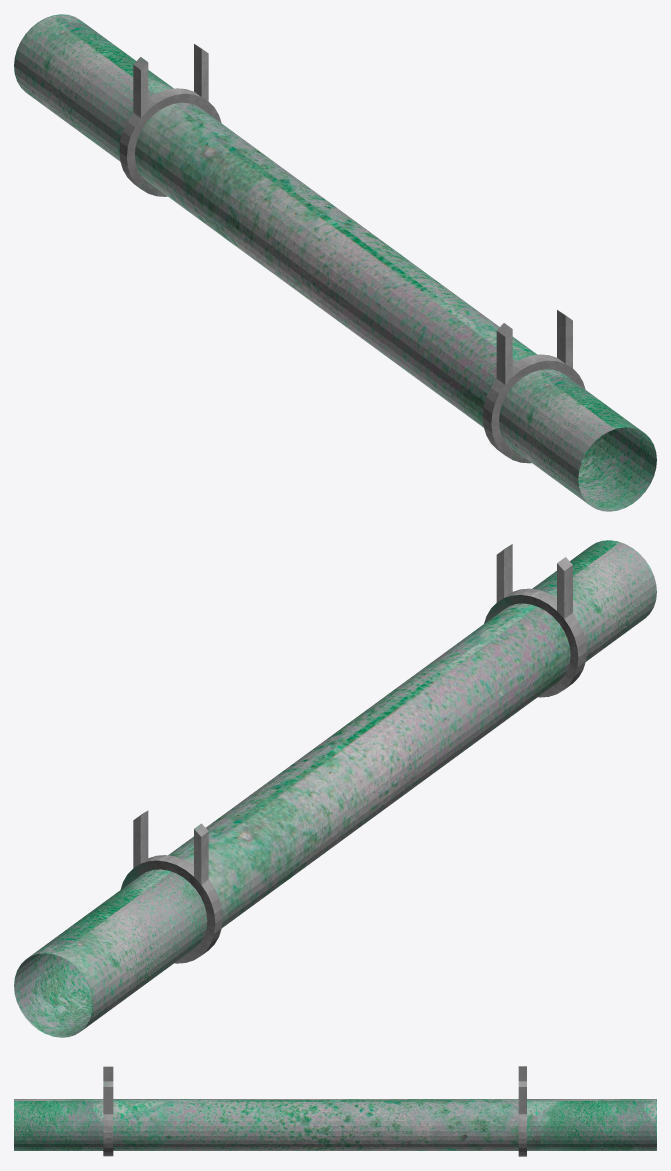
File: tuberia.obj
3 views of the same model, one above another, from view 1: azimuth 30°, elevation 25°; view 2: azimuth 150°, elevation 25°; view 3: azimuth 270°, elevation 25° (orthographic). The views are drawn at different scales.
Parts seen in each view (by area): view 1: Cylinder; view 2: Cylinder; view 3: Cylinder.
Part boxes in pixels (left/top/right/bottom): Cylinder: left=14, top=14, right=656, bottom=511; Cylinder: left=14, top=540, right=656, bottom=1037; Cylinder: left=14, top=1066, right=656, bottom=1156.
Size of the model in its own units: 2.32 by 3.23 by 23.63.
2 materials, 2 textured.
